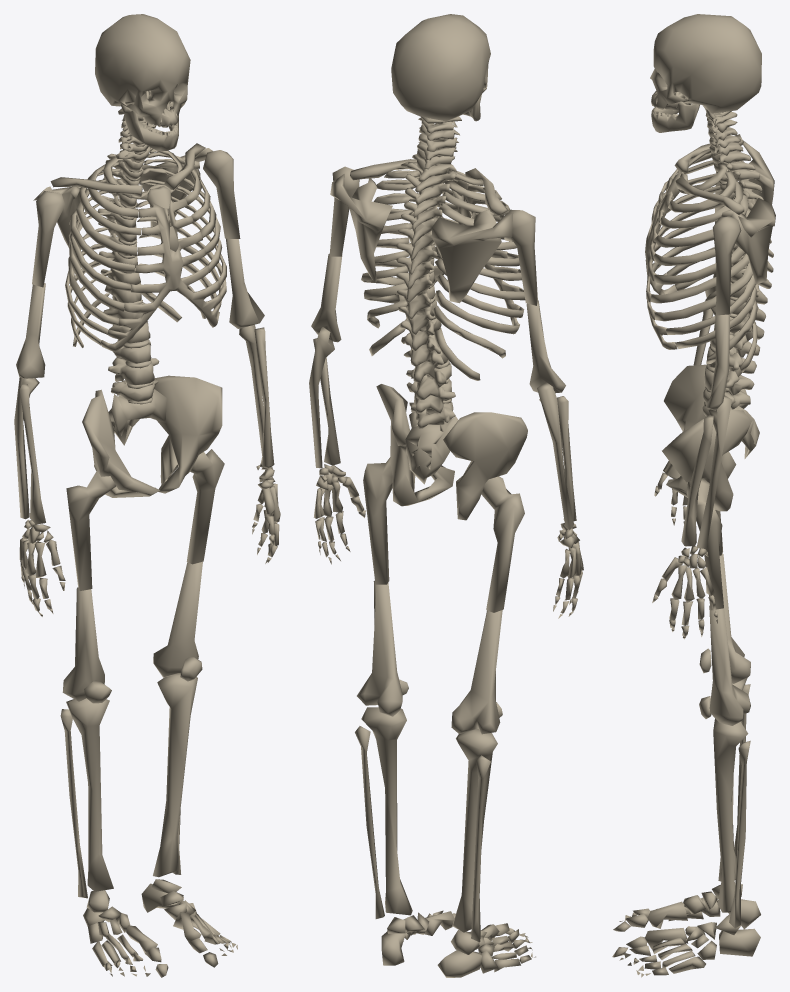
File: pediatric_adolescent_female.skeletal.LOD3.glb
3 renders of one model, left to right at view 1: azimuth 30°, elevation 25°; view 2: azimuth 150°, elevation 25°; view 3: azimuth 270°, elevation 25°, orthographic. The views are drawn at different scales.
Parts seen in each view (by area): view 1: PEDIATRIC.ADOLESCENT.FEMALE.SKELETAL.RIBS_CORTICAL, PEDIATRIC.ADOLESCENT.FEMALE.SKELETAL.CRANIUM_CORTICAL, PEDIATRIC.ADOLESCENT.FEMALE.SKELETAL.PELVIS_CORTICAL, PEDIATRIC.ADOLESCENT.FEMALE.SKELETAL.TIBIAE_CORTICAL, PEDIATRIC.ADOLESCENT.FEMALE.SKELETAL.CARTILAGE_TRUNK, PEDIATRIC.ADOLESCENT.FEMALE.SKELETAL.ANKLES_AND_FOOT_CORTICA, PEDIATRIC.ADOLESCENT.FEMALE.SKELETAL.FEMORA_LOWER_CORTICAL, PEDIATRIC.ADOLESCENT.FEMALE.SKELETAL.FEMORA_UPPER_CORTICAL, PEDIATRIC.ADOLESCENT.FEMALE.SKELETAL.WRISTS_AND_HAND_BONES_C, PEDIATRIC.ADOLESCENT.FEMALE.SKELETAL.HUMERI_UPPER_CORTICAL, PEDIATRIC.ADOLESCENT.FEMALE.SKELETAL.HUMERI_LOWER_CORTICAL, PEDIATRIC.ADOLESCENT.FEMALE.SKELETAL.LUMBAR_SPINE_CORTICAL (+11 smaller); view 2: PEDIATRIC.ADOLESCENT.FEMALE.SKELETAL.RIBS_CORTICAL, PEDIATRIC.ADOLESCENT.FEMALE.SKELETAL.CRANIUM_CORTICAL, PEDIATRIC.ADOLESCENT.FEMALE.SKELETAL.PELVIS_CORTICAL, PEDIATRIC.ADOLESCENT.FEMALE.SKELETAL.TIBIAE_CORTICAL, PEDIATRIC.ADOLESCENT.FEMALE.SKELETAL.SCAPULAE_CORTICAL, PEDIATRIC.ADOLESCENT.FEMALE.SKELETAL.FEMORA_LOWER_CORTICAL, PEDIATRIC.ADOLESCENT.FEMALE.SKELETAL.THORACIC_SPINE_CORTICAL, PEDIATRIC.ADOLESCENT.FEMALE.SKELETAL.FEMORA_UPPER_CORTICAL, PEDIATRIC.ADOLESCENT.FEMALE.SKELETAL.ANKLES_AND_FOOT_CORTICA, PEDIATRIC.ADOLESCENT.FEMALE.SKELETAL.WRISTS_AND_HAND_BONES_C, PEDIATRIC.ADOLESCENT.FEMALE.SKELETAL.LUMBAR_SPINE_CORTICAL, PEDIATRIC.ADOLESCENT.FEMALE.SKELETAL.ULNAE_CORTICAL (+8 smaller); view 3: PEDIATRIC.ADOLESCENT.FEMALE.SKELETAL.RIBS_CORTICAL, PEDIATRIC.ADOLESCENT.FEMALE.SKELETAL.CRANIUM_CORTICAL, PEDIATRIC.ADOLESCENT.FEMALE.SKELETAL.ANKLES_AND_FOOT_CORTICA, PEDIATRIC.ADOLESCENT.FEMALE.SKELETAL.PELVIS_CORTICAL, PEDIATRIC.ADOLESCENT.FEMALE.SKELETAL.FEMORA_LOWER_CORTICAL, PEDIATRIC.ADOLESCENT.FEMALE.SKELETAL.TIBIAE_CORTICAL, PEDIATRIC.ADOLESCENT.FEMALE.SKELETAL.SCAPULAE_CORTICAL, PEDIATRIC.ADOLESCENT.FEMALE.SKELETAL.WRISTS_AND_HAND_BONES_C, PEDIATRIC.ADOLESCENT.FEMALE.SKELETAL.LUMBAR_SPINE_CORTICAL, PEDIATRIC.ADOLESCENT.FEMALE.SKELETAL.CARTILAGE_TRUNK, PEDIATRIC.ADOLESCENT.FEMALE.SKELETAL.HUMERI_UPPER_CORTICAL, PEDIATRIC.ADOLESCENT.FEMALE.SKELETAL.RADII_CORTICAL (+10 smaller).
Boxes of the visible parts, x1=… form: PEDIATRIC.ADOLESCENT.FEMALE.SKELETAL.RIBS_CORTICAL: x1=65, y1=149, x2=226, y2=347; PEDIATRIC.ADOLESCENT.FEMALE.SKELETAL.CRANIUM_CORTICAL: x1=95, y1=14, x2=190, y2=127; PEDIATRIC.ADOLESCENT.FEMALE.SKELETAL.PELVIS_CORTICAL: x1=82, y1=375, x2=222, y2=497; PEDIATRIC.ADOLESCENT.FEMALE.SKELETAL.TIBIAE_CORTICAL: x1=66, y1=673, x2=197, y2=891; PEDIATRIC.ADOLESCENT.FEMALE.SKELETAL.CARTILAGE_TRUNK: x1=101, y1=120, x2=221, y2=404; PEDIATRIC.ADOLESCENT.FEMALE.SKELETAL.ANKLES_AND_FOOT_CORTICA: x1=83, y1=879, x2=237, y2=977; PEDIATRIC.ADOLESCENT.FEMALE.SKELETAL.FEMORA_LOWER_CORTICAL: x1=62, y1=562, x2=202, y2=701; PEDIATRIC.ADOLESCENT.FEMALE.SKELETAL.FEMORA_UPPER_CORTICAL: x1=66, y1=449, x2=224, y2=590; PEDIATRIC.ADOLESCENT.FEMALE.SKELETAL.WRISTS_AND_HAND_BONES_C: x1=19, y1=462, x2=280, y2=616; PEDIATRIC.ADOLESCENT.FEMALE.SKELETAL.HUMERI_UPPER_CORTICAL: x1=32, y1=150, x2=240, y2=287; PEDIATRIC.ADOLESCENT.FEMALE.SKELETAL.HUMERI_LOWER_CORTICAL: x1=16, y1=238, x2=264, y2=378; PEDIATRIC.ADOLESCENT.FEMALE.SKELETAL.LUMBAR_SPINE_CORTICAL: x1=103, y1=302, x2=159, y2=401; PEDIATRIC.ADOLESCENT.FEMALE.SKELETAL.RIBS_CORTICAL: x1=361, y1=161, x2=525, y2=380; PEDIATRIC.ADOLESCENT.FEMALE.SKELETAL.CRANIUM_CORTICAL: x1=391, y1=14, x2=490, y2=121; PEDIATRIC.ADOLESCENT.FEMALE.SKELETAL.PELVIS_CORTICAL: x1=376, y1=384, x2=527, y2=520; PEDIATRIC.ADOLESCENT.FEMALE.SKELETAL.TIBIAE_CORTICAL: x1=361, y1=707, x2=497, y2=932; PEDIATRIC.ADOLESCENT.FEMALE.SKELETAL.SCAPULAE_CORTICAL: x1=330, y1=174, x2=513, y2=303; PEDIATRIC.ADOLESCENT.FEMALE.SKELETAL.FEMORA_LOWER_CORTICAL: x1=357, y1=580, x2=502, y2=734; PEDIATRIC.ADOLESCENT.FEMALE.SKELETAL.THORACIC_SPINE_CORTICAL: x1=396, y1=162, x2=456, y2=351; PEDIATRIC.ADOLESCENT.FEMALE.SKELETAL.FEMORA_UPPER_CORTICAL: x1=363, y1=457, x2=524, y2=612; PEDIATRIC.ADOLESCENT.FEMALE.SKELETAL.ANKLES_AND_FOOT_CORTICA: x1=381, y1=910, x2=535, y2=977; PEDIATRIC.ADOLESCENT.FEMALE.SKELETAL.WRISTS_AND_HAND_BONES_C: x1=313, y1=464, x2=583, y2=618; PEDIATRIC.ADOLESCENT.FEMALE.SKELETAL.LUMBAR_SPINE_CORTICAL: x1=401, y1=328, x2=455, y2=428; PEDIATRIC.ADOLESCENT.FEMALE.SKELETAL.ULNAE_CORTICAL: x1=309, y1=327, x2=573, y2=529; PEDIATRIC.ADOLESCENT.FEMALE.SKELETAL.RIBS_CORTICAL: x1=650, y1=149, x2=757, y2=372; PEDIATRIC.ADOLESCENT.FEMALE.SKELETAL.CRANIUM_CORTICAL: x1=650, y1=14, x2=761, y2=113; PEDIATRIC.ADOLESCENT.FEMALE.SKELETAL.ANKLES_AND_FOOT_CORTICA: x1=612, y1=883, x2=760, y2=977; PEDIATRIC.ADOLESCENT.FEMALE.SKELETAL.PELVIS_CORTICAL: x1=662, y1=364, x2=751, y2=511; PEDIATRIC.ADOLESCENT.FEMALE.SKELETAL.FEMORA_LOWER_CORTICAL: x1=709, y1=553, x2=750, y2=725; PEDIATRIC.ADOLESCENT.FEMALE.SKELETAL.TIBIAE_CORTICAL: x1=713, y1=678, x2=748, y2=912; PEDIATRIC.ADOLESCENT.FEMALE.SKELETAL.SCAPULAE_CORTICAL: x1=721, y1=140, x2=775, y2=284; PEDIATRIC.ADOLESCENT.FEMALE.SKELETAL.WRISTS_AND_HAND_BONES_C: x1=652, y1=461, x2=717, y2=639; PEDIATRIC.ADOLESCENT.FEMALE.SKELETAL.LUMBAR_SPINE_CORTICAL: x1=703, y1=314, x2=764, y2=409; PEDIATRIC.ADOLESCENT.FEMALE.SKELETAL.CARTILAGE_TRUNK: x1=645, y1=118, x2=746, y2=406; PEDIATRIC.ADOLESCENT.FEMALE.SKELETAL.HUMERI_UPPER_CORTICAL: x1=712, y1=138, x2=741, y2=315; PEDIATRIC.ADOLESCENT.FEMALE.SKELETAL.RADII_CORTICAL: x1=681, y1=301, x2=713, y2=546.
Bounding box in the file's own units: 0.4576 × 1.6 × 0.2552.
